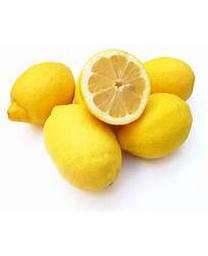lemon: (44, 103, 122, 192), (83, 49, 151, 124), (120, 94, 193, 160), (7, 62, 75, 123)
